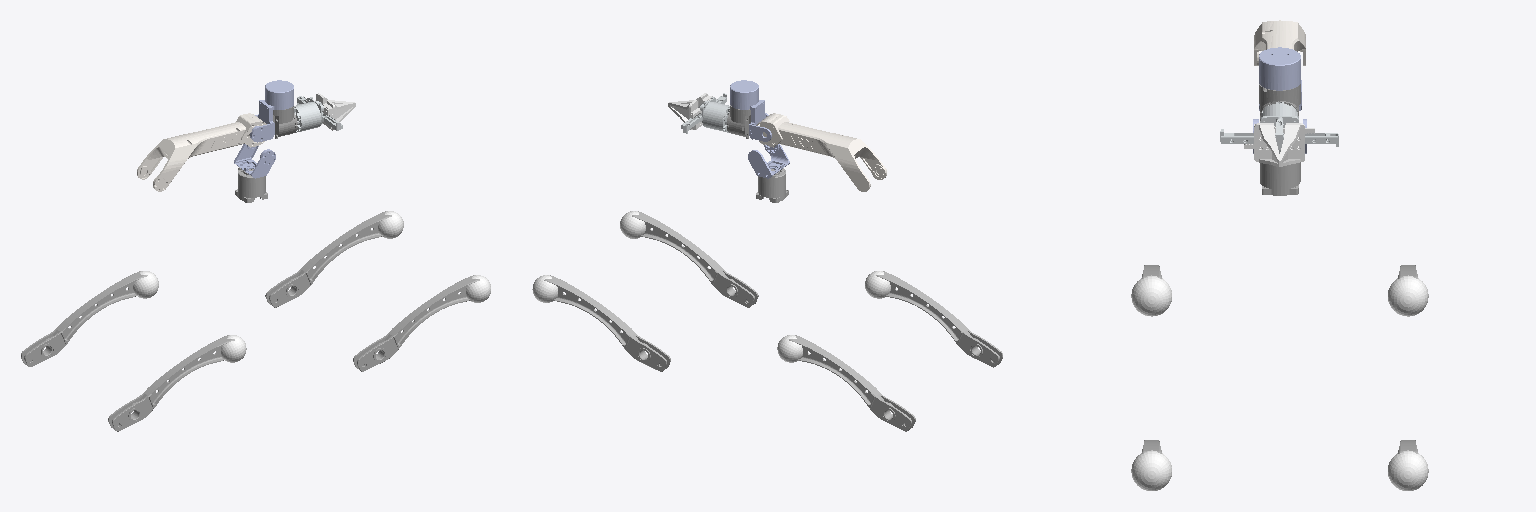
--- Render facts (derived) ---
Views: 3 orthographic renders of the robot side by side, from view 1: azimuth 30°, elevation 25°; view 2: azimuth 150°, elevation 25°; view 3: azimuth 270°, elevation 25°.
Model galileo_mini_description with 27 links and 26 joints (18 revolute, 7 fixed, 1 floating), rooted at world, posed all joints at 0 but 4 set to mid-range because 0 is outside their limits (FL_knee_joint = -1.81, FR_knee_joint = -1.81, HR_knee_joint = -1.81, HL_knee_joint = -1.81).
Visible links, largest first — view 1: link3, FR_knee_link, HR_knee_link, HL_knee_link, FL_knee_link, link4, link6, link1, manipulator_base_link, link5; view 2: link3, HL_knee_link, FL_knee_link, FR_knee_link, HR_knee_link, link4, link6, link1, manipulator_base_link, link5; view 3: link4, link6, link3, HL_foot_link, HR_foot_link, FL_foot_link, FR_foot_link, manipulator_base_link, link8, link7, link5.
Link boxes in pixels (bbox=[...]): link3: bbox=[137, 113, 266, 191]; FR_knee_link: bbox=[353, 275, 479, 371]; HR_knee_link: bbox=[108, 335, 234, 431]; HL_knee_link: bbox=[21, 271, 147, 366]; FL_knee_link: bbox=[265, 211, 391, 307]; link4: bbox=[250, 80, 293, 142]; link6: bbox=[294, 96, 342, 132]; link1: bbox=[234, 144, 275, 178]; manipulator_base_link: bbox=[235, 167, 267, 202]; link5: bbox=[273, 106, 297, 138]; link3: bbox=[756, 113, 886, 191]; HL_knee_link: bbox=[789, 335, 915, 431]; FL_knee_link: bbox=[544, 275, 670, 371]; FR_knee_link: bbox=[632, 211, 758, 307]; HR_knee_link: bbox=[876, 271, 1002, 367]; link4: bbox=[730, 80, 771, 141]; link6: bbox=[681, 93, 729, 133]; link1: bbox=[748, 144, 789, 178]; manipulator_base_link: bbox=[756, 168, 788, 202]; link5: bbox=[727, 105, 750, 138]; link4: bbox=[1259, 47, 1301, 110]; link6: bbox=[1220, 102, 1338, 153]; link3: bbox=[1254, 20, 1305, 65]; HL_foot_link: bbox=[1388, 275, 1428, 316]; HR_foot_link: bbox=[1131, 275, 1171, 316]; FL_foot_link: bbox=[1388, 450, 1428, 490]; FR_foot_link: bbox=[1131, 450, 1171, 490]; manipulator_base_link: bbox=[1260, 162, 1300, 195]; link8: bbox=[1254, 123, 1314, 166]; link7: bbox=[1244, 123, 1304, 166]; link5: bbox=[1259, 84, 1300, 117].
Size in the robot's own frame: 0.9338 by 0.4333 by 0.614 metres.
Meshes: 22 distinct files referenced, 12 mesh visuals loaded (12 binary STL); not drawn: 10 (reference not matched to a file when rendering).

The robot description file, URDF, robot "galileo_mini_description":
<?xml version="1.0" encoding="utf-8"?>

<robot name="galileo_mini_description">
  <!-- 添加 world link -->
  <link name="world" />

  <!-- 添加浮动基座关节 -->
  <joint name="floating_base_joint" type="floating">
    <origin xyz="0 0 0" rpy="0 0 0" />
    <parent link="world" />
    <child link="base_link" />
  </joint>
  <link name="base_link">
    <inertial>
      <origin
        xyz="0.03738 -0.0065903 0.0057934"
        rpy="0 0 0" />
      <mass
        value="20.8" />
      <inertia
        ixx="0.131102"
        ixy="0.001924"
        ixz="0.001299"
        iyy="0.407915"
        iyz="0.002595"
        izz="0.476755" />
    </inertial>
    <visual>
      <origin
        xyz="0 0 0"
        rpy="0 0 0" />
      <geometry>
        <mesh
          filename="package://galileo_mini_x5_description/meshes/base_link.STL" />
      </geometry>
      <material
        name="">
        <color
          rgba="0.75294 0.75294 0.75294 1" />
      </material>
    </visual>
    <collision>
      <origin
        xyz="0 0 0"
        rpy="0 0 0" />
      <geometry>
        <box size="0.45 0.25 0.1" />
      </geometry>
    </collision>
  </link>

  <link name="FL_abd_link">
    <inertial>
      <origin
        xyz="0.067568 0.0095934 1.3738E-05"
        rpy="0 0 0" />
      <mass
        value="2.86" />
      <inertia
        ixx="0.004368"
        ixy="0.000362"
        ixz="0.000114"
        iyy="0.007476"
        iyz="0.000035"
        izz="0.006777" />
    </inertial>
    <visual>
      <origin
        xyz="0 0 0"
        rpy="0 0 0" />
      <geometry>
        <mesh
          filename="package://galileo_mini_x5_description/meshes/FL_abd_link.STL" />
      </geometry>
      <material
        name="">
        <color
          rgba="0.75294 0.75294 0.75294 1" />
      </material>
    </visual>
    <collision>
      <origin
        xyz="0.1 0.03325 0"
        rpy="1.5707963 0 0" />
      <geometry>
        <cylinder radius="0.06" length="0.1065" />
      </geometry>
    </collision>
  </link>
  <joint name="FL_abd_joint" type="revolute">
    <origin
      xyz="0.2015 0.08 0"
      rpy="0 0 0" />
    <parent
      link="base_link" />
    <child
      link="FL_abd_link" />
    <axis
      xyz="1 0 0" />
    <limit
      lower="-0.80285"
      upper="0.80285"
      effort="100"
      velocity="21" />
  </joint>
  <link name="FL_hip_link">
    <inertial>
      <origin
        xyz="-0.0090988 -0.0065295 -0.0688"
        rpy="0 0 0" />
      <mass
        value="2.6" />
      <inertia
        ixx="0.016848"
        ixy="-0.000310"
        ixz="0.001116"
        iyy="0.016749"
        iyz="-0.002270"
        izz="0.002088" />
    </inertial>
    <visual>
      <origin
        xyz="0 0 0"
        rpy="0 0 0" />
      <geometry>
        <mesh
          filename="package://galileo_mini_x5_description/meshes/FL_hip_link.STL" />
      </geometry>
      <material
        name="">
        <color
          rgba="0.75294 0.75294 0.75294 1" />
      </material>
    </visual>
    <collision>
      <origin
        xyz="-0.025 0 -0.08"
        rpy="0 0 0" />
      <geometry>
        <box size="0.06 0.035 0.26" />
      </geometry>
    </collision>
  </link>
  <joint name="FL_hip_joint" type="revolute">
    <origin
      xyz="0.1 0.1065 0"
      rpy="0 0 0" />
    <parent
      link="FL_abd_link" />
    <child
      link="FL_hip_link" />
    <axis
      xyz="0 1 0" />
    <limit
      lower="-1.0472"
      upper="4.1888"
      effort="100"
      velocity="21" />
  </joint>
  <link name="FL_knee_link">
    <inertial>
      <origin
        xyz="0.017829 -1.577E-05 -0.099213"
        rpy="0 0 0" />
      <mass
        value="0.314" />
      <inertia
        ixx="0.003733"
        ixy="-0.000000087"
        ixz="-0.0006"
        iyy="0.003882"
        iyz="0.000000838"
        izz="0.000177" />
    </inertial>
    <visual>
      <origin
        xyz="0 0 0"
        rpy="0 0 0" />
      <geometry>
        <mesh
          filename="package://galileo_mini_x5_description/meshes/FL_knee_link.STL" />
      </geometry>
      <material
        name="">
        <color
          rgba="0.75294 0.75294 0.75294 1" />
      </material>
    </visual>
    <collision>
      <origin
        xyz="0.0164695 0 -0.13"
        rpy="0 -0.17453 0" />
      <geometry>
        <box size="0.05 0.03 0.23" />
      </geometry>
    </collision>
  </link>
  <joint name="FL_knee_joint" type="revolute">
    <origin
      xyz="0 0 -0.26"
      rpy="0 0 0" />
    <parent
      link="FL_hip_link" />
    <child
      link="FL_knee_link" />
    <axis
      xyz="0 1 0" />
    <limit
      lower="-2.6965"
      upper="-0.9163"
      effort="150"
      velocity="21" />
  </joint>
  <link name="FL_foot_link">
    <inertial>
      <origin
        xyz="-5.5511E-17 0 0"
        rpy="0 0 0" />
      <mass
        value="0.00020487" />
      <inertia
        ixx="1.096E-09"
        ixy="-2.0392E-56"
        ixz="0"
        iyy="1.096E-09"
        iyz="0"
        izz="1.096E-09" />
    </inertial>
    <visual>
      <origin
        xyz="0 0 0"
        rpy="0 0 0" />
      <geometry>
        <sphere radius="0.030" />
      </geometry>
      <material
        name="">
        <color
          rgba="1 1 1 1" />
      </material>
    </visual>
    <collision>
      <origin
        xyz="0 0 0"
        rpy="0 0 0" />
      <geometry>
        <sphere radius="0.030" />
      </geometry>
    </collision>
  </link>
  <joint name="FL_foot_joint" type="fixed">
    <origin
      xyz="0.032939 0 -0.26149"
      rpy="0 0 0" />
    <parent
      link="FL_knee_link" />
    <child
      link="FL_foot_link" />
    <axis
      xyz="0 0 0" />
  </joint>

  <joint name="FR_abd_joint" type="revolute">
    <origin
      xyz="0.2015 -0.08 0"
      rpy="0 0 0" />
    <parent
      link="base_link" />
    <child
      link="FR_abd_link" />
    <axis
      xyz="1 0 0" />
    <limit
      lower="-0.80285"
      upper="0.80285"
      effort="100"
      velocity="21" />
  </joint>
  <link name="FR_abd_link">
    <inertial>
      <origin
        xyz="0.067568 -0.0091759 -0.00023747"
        rpy="0 0 0" />
      <mass
        value="2.86" />
      <inertia
        ixx="0.004373"
        ixy="-0.000397"
        ixz="-0.000096"
        iyy="0.007483"
        iyz="0.000030"
        izz="0.006775" />
    </inertial>
    <visual>
      <origin
        xyz="0 0 0"
        rpy="0 0 0" />
      <geometry>
        <mesh
          filename="package://galileo_mini_x5_description/meshes/FR_abd_link.STL" />
      </geometry>
      <material
        name="">
        <color
          rgba="0.75294 0.75294 0.75294 1" />
      </material>
    </visual>
    <collision>
      <origin
        xyz="0.1 -0.03325 0"
        rpy="1.5707963 0 0" />
      <geometry>
        <cylinder radius="0.06" length="0.1065" />
      </geometry>
    </collision>
  </link>
  <joint name="FR_hip_joint" type="revolute">
    <origin
      xyz="0.1 -0.10685 0"
      rpy="0 0 0" />
    <parent
      link="FR_abd_link" />
    <child
      link="FR_hip_link" />
    <axis
      xyz="0 1 0" />
    <limit
      lower="-1.0472"
      upper="4.1888"
      effort="100"
      velocity="21" />
  </joint>
  <link name="FR_hip_link">
    <inertial>
      <origin
        xyz="-0.0095338 0.026092 -0.067392"
        rpy="0 0 0" />
      <mass
        value="2.6" />
      <inertia
        ixx="0.016261"
        ixy="0.000284"
        ixz="0.001143"
        iyy="0.016389"
        iyz="0.002508"
        izz="0.002194" />
    </inertial>
    <visual>
      <origin
        xyz="0 0 0"
        rpy="0 0 0" />
      <geometry>
        <mesh
          filename="package://galileo_mini_x5_description/meshes/FR_hip_link.STL" />
      </geometry>
      <material
        name="">
        <color
          rgba="0.75294 0.75294 0.75294 1" />
      </material>
    </visual>
    <collision>
      <origin
        xyz="-0.025 0 -0.08"
        rpy="0 0 0" />
      <geometry>
        <box size="0.06 0.035 0.26" />
      </geometry>
    </collision>
  </link>
  <joint name="FR_knee_joint" type="revolute">
    <origin
      xyz="0 0 -0.26"
      rpy="0 0 0" />
    <parent
      link="FR_hip_link" />
    <child
      link="FR_knee_link" />
    <axis
      xyz="0 1 0" />
    <limit
      lower="-2.6965"
      upper="-0.9163"
      effort="150"
      velocity="21" />
  </joint>
  <link name="FR_knee_link">
    <inertial>
      <origin
        xyz="0.017829 -1.577E-05 -0.099213"
        rpy="0 0 0" />
      <mass
        value="0.314" />
      <inertia
        ixx="0.003733"
        ixy="-0.000000087"
        ixz="-0.0006"
        iyy="0.003882"
        iyz="0.000000838"
        izz="0.000177" />
    </inertial>
    <visual>
      <origin
        xyz="0 0 0"
        rpy="0 0 0" />
      <geometry>
        <mesh
          filename="package://galileo_mini_x5_description/meshes/FR_knee_link.STL" />
      </geometry>
      <material
        name="">
        <color
          rgba="0.75294 0.75294 0.75294 1" />
      </material>
    </visual>
    <collision>
      <origin
        xyz="0.0164695 0 -0.13"
        rpy="0 -0.17453 0" />
      <geometry>
        <box size="0.05 0.03 0.23" />
      </geometry>
    </collision>
  </link>
  <joint name="FR_foot_joint" type="fixed">
    <origin
      xyz="0.032939 0 -0.26149"
      rpy="0 0 0" />
    <parent
      link="FR_knee_link" />
    <child
      link="FR_foot_link" />
    <axis
      xyz="0 0 0" />
  </joint>
  <link name="FR_foot_link">
    <inertial>
      <origin
        xyz="0 0 0"
        rpy="0 0 0" />
      <mass
        value="0.00020487" />
      <inertia
        ixx="1.096E-09"
        ixy="0"
        ixz="1.7152E-40"
        iyy="1.096E-09"
        iyz="0"
        izz="1.096E-09" />
    </inertial>
    <visual>
      <origin
        xyz="0 0 0"
        rpy="0 0 0" />
      <geometry>
        <sphere radius="0.03" />
      </geometry>
      <material
        name="">
        <color
          rgba="1 1 1 1" />
      </material>
    </visual>
    <collision>
      <origin
        xyz="0 0 0"
        rpy="0 0 0" />
      <geometry>
        <sphere radius="0.03" />
      </geometry>
    </collision>
  </link>

  <joint name="HR_abd_joint" type="revolute">
    <origin
      xyz="-0.2015 -0.08 0"
      rpy="0 0 0" />
    <parent
      link="base_link" />
    <child
      link="HR_abd_link" />
    <axis
      xyz="1 0 0" />
    <limit
      lower="-0.80285"
      upper="0.80285"
      effort="100"
      velocity="21" />
  </joint>
  <link name="HR_abd_link">
    <inertial>
      <origin
        xyz="-0.067556 -0.0095934 -1.7463E-05"
        rpy="0 0 0" />
      <mass
        value="2.86" />
      <inertia
        ixx="0.004372"
        ixy="0.000364"
        ixz="-0.000106"
        iyy="0.007471"
        iyz="-0.000038"
        izz="0.006768" />
    </inertial>
    <visual>
      <origin
        xyz="0 0 0"
        rpy="0 0 0" />
      <geometry>
        <mesh
          filename="package://galileo_mini_x5_description/meshes/HR_abd_link.STL" />
      </geometry>
      <material
        name="">
        <color
          rgba="0.75294 0.75294 0.75294 1" />
      </material>
    </visual>
    <collision>
      <origin
        xyz="-0.1 -0.03325 0"
        rpy="1.5707963 0 0" />
      <geometry>
        <cylinder radius="0.06" length="0.1065" />
      </geometry>
    </collision>
  </link>
  <joint name="HR_hip_joint" type="revolute">
    <origin
      xyz="-0.1 -0.10685 0"
      rpy="0 0 0" />
    <parent
      link="HR_abd_link" />
    <child
      link="HR_hip_link" />
    <axis
      xyz="0 1 0" />
    <limit
      lower="-1.0472"
      upper="4.1888"
      effort="100"
      velocity="21" />
  </joint>
  <link name="HR_hip_link">
    <inertial>
      <origin
        xyz="-0.0098055 0.020667 -0.067167"
        rpy="0 0 0" />
      <mass
        value="2.6" />
      <inertia
        ixx="0.017144"
        ixy="0.000198"
        ixz="0.001067"
        iyy="0.016508"
        iyz="0.002833"
        izz="0.002907" />
    </inertial>
    <visual>
      <origin
        xyz="0 0 0"
        rpy="0 0 0" />
      <geometry>
        <mesh
          filename="package://galileo_mini_x5_description/meshes/HR_hip_link.STL" />
      </geometry>
      <material
        name="">
        <color
          rgba="0.75294 0.75294 0.75294 1" />
      </material>
    </visual>
    <collision>
      <origin
        xyz="-0.025 0 -0.08"
        rpy="0 0 0" />
      <geometry>
        <box size="0.06 0.035 0.26" />
      </geometry>
    </collision>
  </link>
  <joint name="HR_knee_joint" type="revolute">
    <origin
      xyz="0 0 -0.26"
      rpy="0 0 0" />
    <parent
      link="HR_hip_link" />
    <child
      link="HR_knee_link" />
    <axis
      xyz="0 1 0" />
    <limit
      lower="-2.6965"
      upper="-0.9163"
      effort="150"
      velocity="21" />
  </joint>
  <link name="HR_knee_link">
    <inertial>
      <origin
        xyz="0.017829 -1.577E-05 -0.099213"
        rpy="0 0 0" />
      <mass
        value="0.314" />
      <inertia
        ixx="0.003733"
        ixy="-0.000000087"
        ixz="-0.0006"
        iyy="0.003882"
        iyz="0.000000838"
        izz="0.000177" />
    </inertial>
    <visual>
      <origin
        xyz="0 0 0"
        rpy="0 0 0" />
      <geometry>
        <mesh
          filename="package://galileo_mini_x5_description/meshes/HR_knee_link.STL" />
      </geometry>
      <material
        name="">
        <color
          rgba="0.75294 0.75294 0.75294 1" />
      </material>
    </visual>
    <collision>
      <origin
        xyz="0.0164695 0 -0.13"
        rpy="0 -0.17453 0" />
      <geometry>
        <box size="0.05 0.03 0.23" />
      </geometry>
    </collision>
  </link>
  <joint name="RR_foot_joint" type="fixed">
    <origin
      xyz="0.032939 0 -0.26149"
      rpy="0 0 0" />
    <parent
      link="HR_knee_link" />
    <child
      link="HR_foot_link" />
    <axis
      xyz="0 0 0" />
  </joint>
  <link name="HR_foot_link">
    <inertial>
      <origin
        xyz="0 0 0"
        rpy="0 0 0" />
      <mass
        value="0.000204873572147578" />
      <inertia
        ixx="1.09600066619755E-09"
        ixy="0"
        ixz="5.28443143791483E-42"
        iyy="1.09600066619755E-09"
        iyz="0"
        izz="1.09600066619755E-09" />
    </inertial>
    <visual>
      <origin
        xyz="0 0 0"
        rpy="0 0 0" />
      <geometry>
        <sphere radius="0.03" />
      </geometry>
      <material
        name="">
        <color
          rgba="1 1 1 1" />
      </material>
    </visual>
    <collision>
      <origin
        xyz="0 0 0"
        rpy="0 0 0" />
      <geometry>
        <sphere radius="0.03" />
      </geometry>
    </collision>
  </link>

  <joint name="HL_abd_joint" type="revolute">
    <origin
      xyz="-0.2015 0.08 0"
      rpy="0 0 0" />
    <parent
      link="base_link" />
    <child
      link="HL_abd_link" />
    <axis
      xyz="1 0 0" />
    <limit
      lower="-0.80285"
      upper="0.80285"
      effort="100"
      velocity="21" />
  </joint>
  <link name="HL_abd_link">
    <inertial>
      <origin
        xyz="-0.06741 0.0095934 7.3103E-05"
        rpy="0 0 0" />
      <mass
        value="2.86" />
      <inertia
        ixx="0.004372"
        ixy="0.000364"
        ixz="-0.000106"
        iyy="0.007471"
        iyz="-0.000038"
        izz="0.006768" />
    </inertial>
    <visual>
      <origin
        xyz="0 0 0"
        rpy="0 0 0" />
      <geometry>
        <mesh
          filename="package://galileo_mini_x5_description/meshes/HL_abd_link.STL" />
      </geometry>
      <material
        name="">
        <color
          rgba="0.75294 0.75294 0.75294 1" />
      </material>
    </visual>
    <collision>
      <origin
        xyz="-0.1 0.03325 0"
        rpy="1.5707963 0 0" />
      <geometry>
        <cylinder radius="0.06" length="0.1065" />
      </geometry>
    </collision>
  </link>
  <joint name="HL_hip_joint" type="revolute">
    <origin
      xyz="-0.1 0.1065 0"
      rpy="0 0 0" />
    <parent
      link="HL_abd_link" />
    <child
      link="HL_hip_link" />
    <axis
      xyz="0 1 0" />
    <limit
      lower="-1.0472"
      upper="4.1888"
      effort="100"
      velocity="21" />
  </joint>
  <link name="HL_hip_link">
    <inertial>
      <origin
        xyz="-0.0090357 -0.0065295 -0.0688"
        rpy="0 0 0" />
      <mass
        value="2.6" />
      <inertia
        ixx="0.016848"
        ixy="-0.000310"
        ixz="0.001116"
        iyy="0.016749"
        iyz="-0.002270"
        izz="0.002088" />
    </inertial>
    <visual>
      <origin
        xyz="0 0 0"
        rpy="0 0 0" />
      <geometry>
        <mesh
          filename="package://galileo_mini_x5_description/meshes/HL_hip_link.STL" />
      </geometry>
      <material
        name="">
        <color
          rgba="0.75294 0.75294 0.75294 1" />
      </material>
    </visual>
    <collision>
      <origin
        xyz="-0.025 0 -0.08"
        rpy="0 0 0" />
      <geometry>
        <box size="0.06 0.035 0.26" />
      </geometry>
    </collision>
  </link>
  <joint name="HL_knee_joint" type="revolute">
    <origin
      xyz="6.3209E-05 0 -0.26"
      rpy="0 0 0" />
    <parent
      link="HL_hip_link" />
    <child
      link="HL_knee_link" />
    <axis
      xyz="0 1 0" />
    <limit
      lower="-2.6965"
      upper="-0.9163"
      effort="150"
      velocity="21" />
  </joint>
  <link name="HL_knee_link">
    <inertial>
      <origin
        xyz="0.017829 -1.577E-05 -0.099213"
        rpy="0 0 0" />
      <mass
        value="0.314" />
      <inertia
        ixx="0.003733"
        ixy="-0.000000087"
        ixz="-0.0006"
        iyy="0.003882"
        iyz="0.000000838"
        izz="0.000177" />
    </inertial>
    <visual>
      <origin
        xyz="0 0 0"
        rpy="0 0 0" />
      <geometry>
        <mesh
          filename="package://galileo_mini_x5_description/meshes/HL_knee_link.STL" />
      </geometry>
      <material
        name="">
        <color
          rgba="0.75294 0.75294 0.75294 1" />
      </material>
    </visual>
    <collision>
      <origin
        xyz="0.0164695 0 -0.13"
        rpy="0 -0.17453 0" />
      <geometry>
        <box size="0.05 0.03 0.23" />
      </geometry>
    </collision>
  </link>
  <joint name="HL_foot_link" type="fixed">
    <origin
      xyz="0.0329385085367515 0 -0.261492891464613"
      rpy="0 0 0" />
    <parent
      link="HL_knee_link" />
    <child
      link="HL_foot_link" />
    <axis
      xyz="0 0 0" />
  </joint>
  <link name="HL_foot_link">
    <inertial>
      <origin
        xyz="0 5.55111512312578E-17 0"
        rpy="0 0 0" />
      <mass
        value="0.000204873572147578" />
      <inertia
        ixx="1.09600066619755E-09"
        ixy="0"
        ixz="7.97487625425431E-42"
        iyy="1.09600066619755E-09"
        iyz="0"
        izz="1.09600066619755E-09" />
    </inertial>
    <visual>
      <origin
        xyz="0 0 0"
        rpy="0 0 0" />
      <geometry>
        <sphere radius="0.03" />
      </geometry>
      <material
        name="">
        <color
          rgba="1 1 1 1" />
      </material>
    </visual>
    <collision>
      <origin
        xyz="0 0 0"
        rpy="0 0 0" />
      <geometry>
        <sphere radius="0.03" />
      </geometry>
    </collision>
  </link>

  <link name="manipulator_base_link">
    <inertial>
      <origin
        xyz="-3.0001E-05 3.0589E-05 0.027324"
        rpy="0 0 0" />
      <mass
        value="0.43995" />
      <inertia
        ixx="0.00017"
        ixy="0.00000"
        ixz="0.00000"
        iyy="0.00017"
        iyz="0.00000"
        izz="0.00016" />
    </inertial>
    <visual>
      <origin
        xyz="0 0 0"
        rpy="0 0 0" />
      <geometry>
        <mesh
          filename="package://galileo_mini_x5_description/meshes/manipulator_base_link.STL" />
      </geometry>
      <material
        name="">
        <color
          rgba="0.75294 0.75294 0.75294 1" />
      </material>
    </visual>
  </link>
  <joint name="manipulator_base_joint" type="fixed">
    <origin
      xyz="0.1 0 0.08"
      rpy="0 0 0" />
    <parent
      link="base_link" />
    <child
      link="manipulator_base_link" />
  </joint>
  <link name="link1">
    <inertial>
      <origin
        xyz="0.0054231 -0.0080289 0.017086"
        rpy="0 0 0" />
      <mass
        value="0.066982" />
      <inertia
        ixx="0.00008"
        ixy="0.00000"
        ixz="0.00001"
        iyy="0.00003"
        iyz="0.00000"
        izz="0.00008" />
    </inertial>
    <visual>
      <origin
        xyz="0 0 0"
        rpy="0 0 0" />
      <geometry>
        <mesh
          filename="package://galileo_mini_x5_description/meshes/link1.STL" />
      </geometry>
      <material
        name="">
        <color
          rgba="0.79216 0.81961 0.93333 1" />
      </material>
    </visual>
  </link>
  <joint name="joint1" type="revolute">
    <origin
      xyz="0 0 0.0605"
      rpy="0 0 0" />
    <parent
      link="manipulator_base_link" />
    <child
      link="link1" />
    <axis
      xyz="0 0 1" />
    <limit
      lower="-10"
      upper="10"
      effort="100"
      velocity="1000" />
  </joint>
  <link name="link2">
    <inertial>
      <origin
        xyz="-0.13237 0.0020852 0.00010549"
        rpy="0 0 0" />
      <mass
        value="1.0795" />
      <inertia
        ixx="0.00051"
        ixy="0.00001"
        ixz="-0.00004"
        iyy="0.01599"
        iyz="0.00000"
        izz="0.01605" />
    </inertial>
    <visual>
      <origin
        xyz="0 0 0"
        rpy="0 0 0" />
      <geometry>
        <mesh
          filename="package://galileo_mini_x5_description/meshes/link2.STL" />
      </geometry>
      <material
        name="">
        <color
          rgba="0.75294 0.75294 0.75294 1" />
      </material>
    </visual>
  </link>
  <joint name="joint2" type="revolute">
    <origin
      xyz="0.02 0 0.04"
      rpy="0 0 0" />
    <parent
      link="link1" />
    <child
      link="link2" />
    <axis
      xyz="0 1 0" />
    <limit
      lower="-10"
      upper="10"
      effort="100"
      velocity="1000" />
  </joint>
  <link name="link3">
    <inertial>
      <origin
        xyz="0.18531 0.00068376 -0.051638"
        rpy="0 0 0" />
      <mass
        value="0.54534" />
      <inertia
        ixx="0.00036"
        ixy="-0.00003"
        ixz="-0.00039"
        iyy="0.00423"
        iyz="0.00001"
        izz="0.00420" />
    </inertial>
    <visual>
      <origin
        xyz="0 0 0"
        rpy="0 0 0" />
      <geometry>
        <mesh
          filename="package://galileo_mini_x5_description/meshes/link3.STL" />
      </geometry>
      <material
        name="">
        <color
          rgba="1 0.98431 0.96471 1" />
      </material>
    </visual>
  </link>
  <joint name="joint3" type="revolute">
    <origin
      xyz="-0.264 0 0"
      rpy="3.1416 0 0" />
    <parent
      link="link2" />
    <child
      link="link3" />
    <axis
      xyz="0 1 0" />
    <limit
      lower="-10"
      upper="10"
      effort="100"
      velocity="1000" />
  </joint>
  <link name="link4">
    <inertial>
      <origin
        xyz="0.040231 0.0044807 -0.035335"
        rpy="0 0 0" />
      <mass
        value="0.11714" />
      <inertia
        ixx="0.00019"
        ixy="-0.00002"
        ixz="-0.00009"
        iyy="0.00023"
        iyz="0.00002"
        izz="0.00014" />
    </inertial>
    <visual>
      <origin
        xyz="0 0 0"
        rpy="0 0 0" />
      <geometry>
        <mesh
          filename="package://galileo_mini_x5_description/meshes/link4.STL" />
      </geometry>
      <material
        name="">
        <color
          rgba="0.79216 0.81961 0.92941 1" />
      </material>
    </visual>
  </link>
  <joint name="joint4" type="revolute">
    <origin
      xyz="0.245 0 -0.056"
      rpy="0 0 0" />
    <parent
      link="link3" />
    <child
      link="link4" />
    <axis
      xyz="0 1 0" />
    <limit
      lower="-10"
      upper="10"
      effort="100"
      velocity="1000" />
  </joint>
  <link name="link5">
    <inertial>
      <origin
        xyz="0.003612 -1.5455E-05 0.055214"
        rpy="0 0 0" />
      <mass
        value="0.63488" />
      <inertia
        ixx="0.00083"
        ixy="0.00000"
        ixz="0.00007"
        iyy="0.00082"
        iyz="0.00000"
        izz="0.00026" />
    </inertial>
    <visual>
      <origin
        xyz="0 0 0"
        rpy="0 0 0" />
      <geometry>
        <mesh
          filename="package://galileo_mini_x5_description/meshes/link5.STL" />
      </geometry>
      <material
        name="">
        <color
          rgba="0.69804 0.69804 0.69804 1" />
      </material>
    </visual>
  </link>
  <joint name="joint5" type="revolute">
    <origin
      xyz="0.06775 0.0005 -0.0865"
      rpy="0 0 0" />
    <parent
      link="link4" />
    <child
      link="link5" />
    <axis
      xyz="0 0 1" />
    <limit
      lower="-10"
      upper="10"
      effort="100"
      velocity="1000" />
  </joint>
  <link name="link6">
    <inertial>
      <origin
        xyz="0.041697 2.4368E-05 0.00014464"
        rpy="0 0 0" />
      <mass
        value="0.44089" />
      <inertia
        ixx="0.00038"
        ixy="0.00000"
        ixz="0.00000"
        iyy="0.00028"
        iyz="0.00000"
        izz="0.00050" />
    </inertial>
    <visual>
      <origin
        xyz="0 0 0"
        rpy="0 0 0" />
      <geometry>
        <mesh
          filename="package://galileo_mini_x5_description/meshes/link6.STL" />
      </geometry>
      <material
        name="">
        <color
          rgba="0.89804 0.91765 0.92941 1" />
      </material>
    </visual>
  </link>
  <joint name="joint6" type="revolute">
    <origin
      xyz="0.02895 0 0.0865"
      rpy="-3.1416 0 0" />
    <parent
      link="link5" />
    <child
      link="link6" />
    <axis
      xyz="1 0 0" />
    <limit
      lower="-10"
      upper="10"
      effort="100"
      velocity="1000" />
  </joint>
  <link name="link7">
    <inertial>
      <origin
        xyz="-0.00035522 -0.007827 -0.0029883"
        rpy="0 0 0" />
      <mass
        value="0.064798" />
      <inertia
        ixx="0.00002"
        ixy="0.00000"
        ixz="0.00000"
        iyy="0.00003"
        iyz="0.00000"
        izz="0.00003" />
    </inertial>
    <visual>
      <origin
        xyz="0 0 0"
        rpy="0 0 0" />
      <geometry>
        <mesh
          filename="package://galileo_mini_x5_description/meshes/link7.STL" />
      </geometry>
      <material
        name="">
        <color
          rgba="1 1 1 1" />
      </material>
    </visual>
  </link>
  <joint name="joint7" type="fixed">
    <origin
      xyz="0.08657 0.024896 -0.0002436"
      rpy="0 0 0" />
    <parent
      link="link6" />
    <child
      link="link7" />
    <axis
      xyz="0 1 0" />
    <limit
      lower="0"
      upper="0.044"
      effort="100"
      velocity="1000" />
  </joint>
  <link name="link8">
    <inertial>
      <origin
        xyz="-0.00035522 0.0078277 0.0024201"
        rpy="0 0 0" />
      <mass
        value="0.064798" />
      <inertia
        ixx="0.00002"
        ixy="0.00000"
        ixz="0.00000"
        iyy="0.00003"
        iyz="0.00000"
        izz="0.00003" />
    </inertial>
    <visual>
      <origin
        xyz="0 0 0"
        rpy="0 0 0" />
      <geometry>
        <mesh
          filename="package://galileo_mini_x5_description/meshes/link8.STL" />
      </geometry>
      <material
        name="">
        <color
          rgba="1 1 1 1" />
      </material>
    </visual>
  </link>
  <joint name="joint8" type="fixed">
    <origin
      xyz="0.08657 -0.0249 -0.00024366"
      rpy="0 0 0" />
    <parent
      link="link6" />
    <child
      link="link8" />
    <axis
      xyz="0 -1 0" />
    <limit
      lower="0"
      upper="0.044"
      effort="100"
      velocity="1000" />
  </joint>
</robot>
